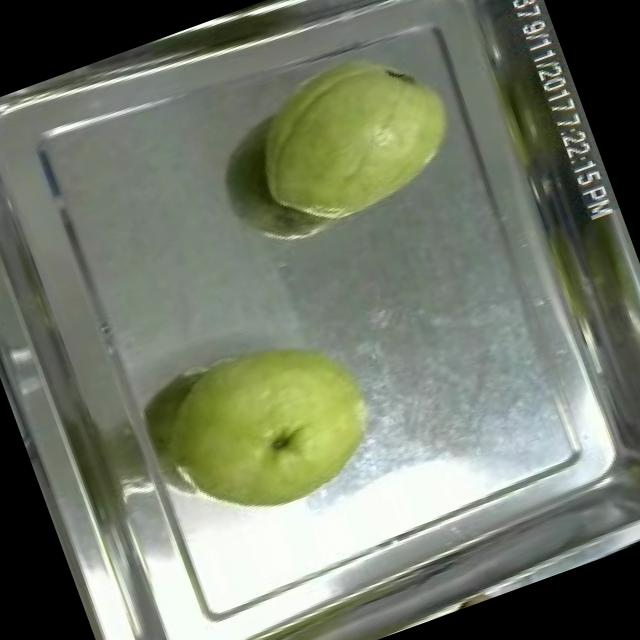Fruit: (221, 17, 487, 252), (148, 307, 402, 540)
